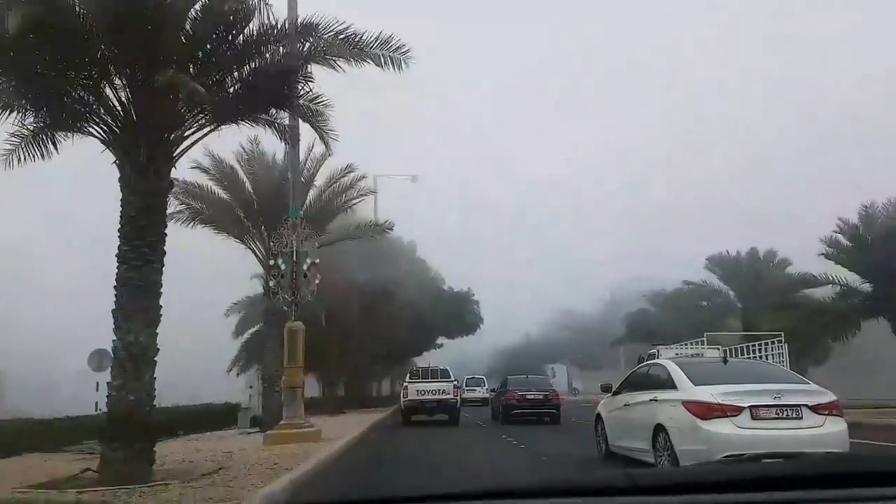bus: (632, 331, 803, 453)
car: (592, 359, 852, 481), (487, 370, 563, 423), (399, 364, 464, 424), (458, 375, 493, 408)
